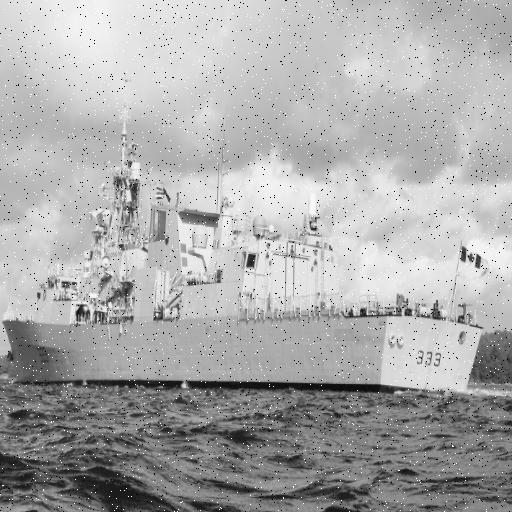Fragata: (1, 67, 494, 400)
